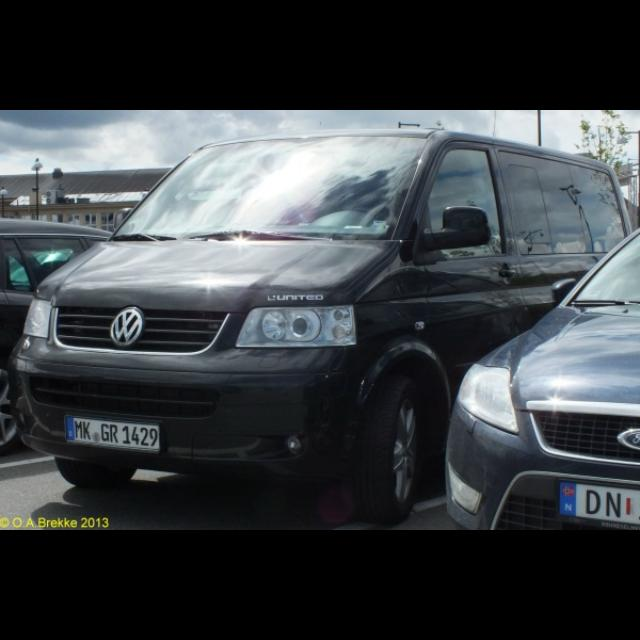d_license_plate: (63, 416, 159, 450)
